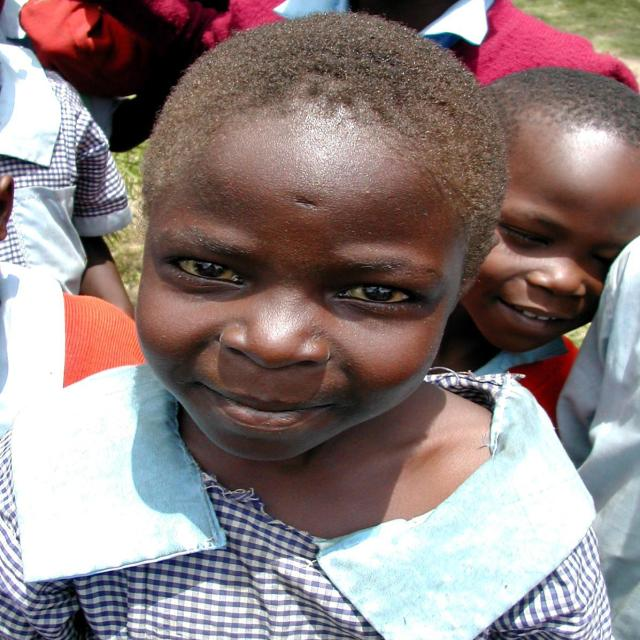no-glass: (169, 254, 416, 316)
